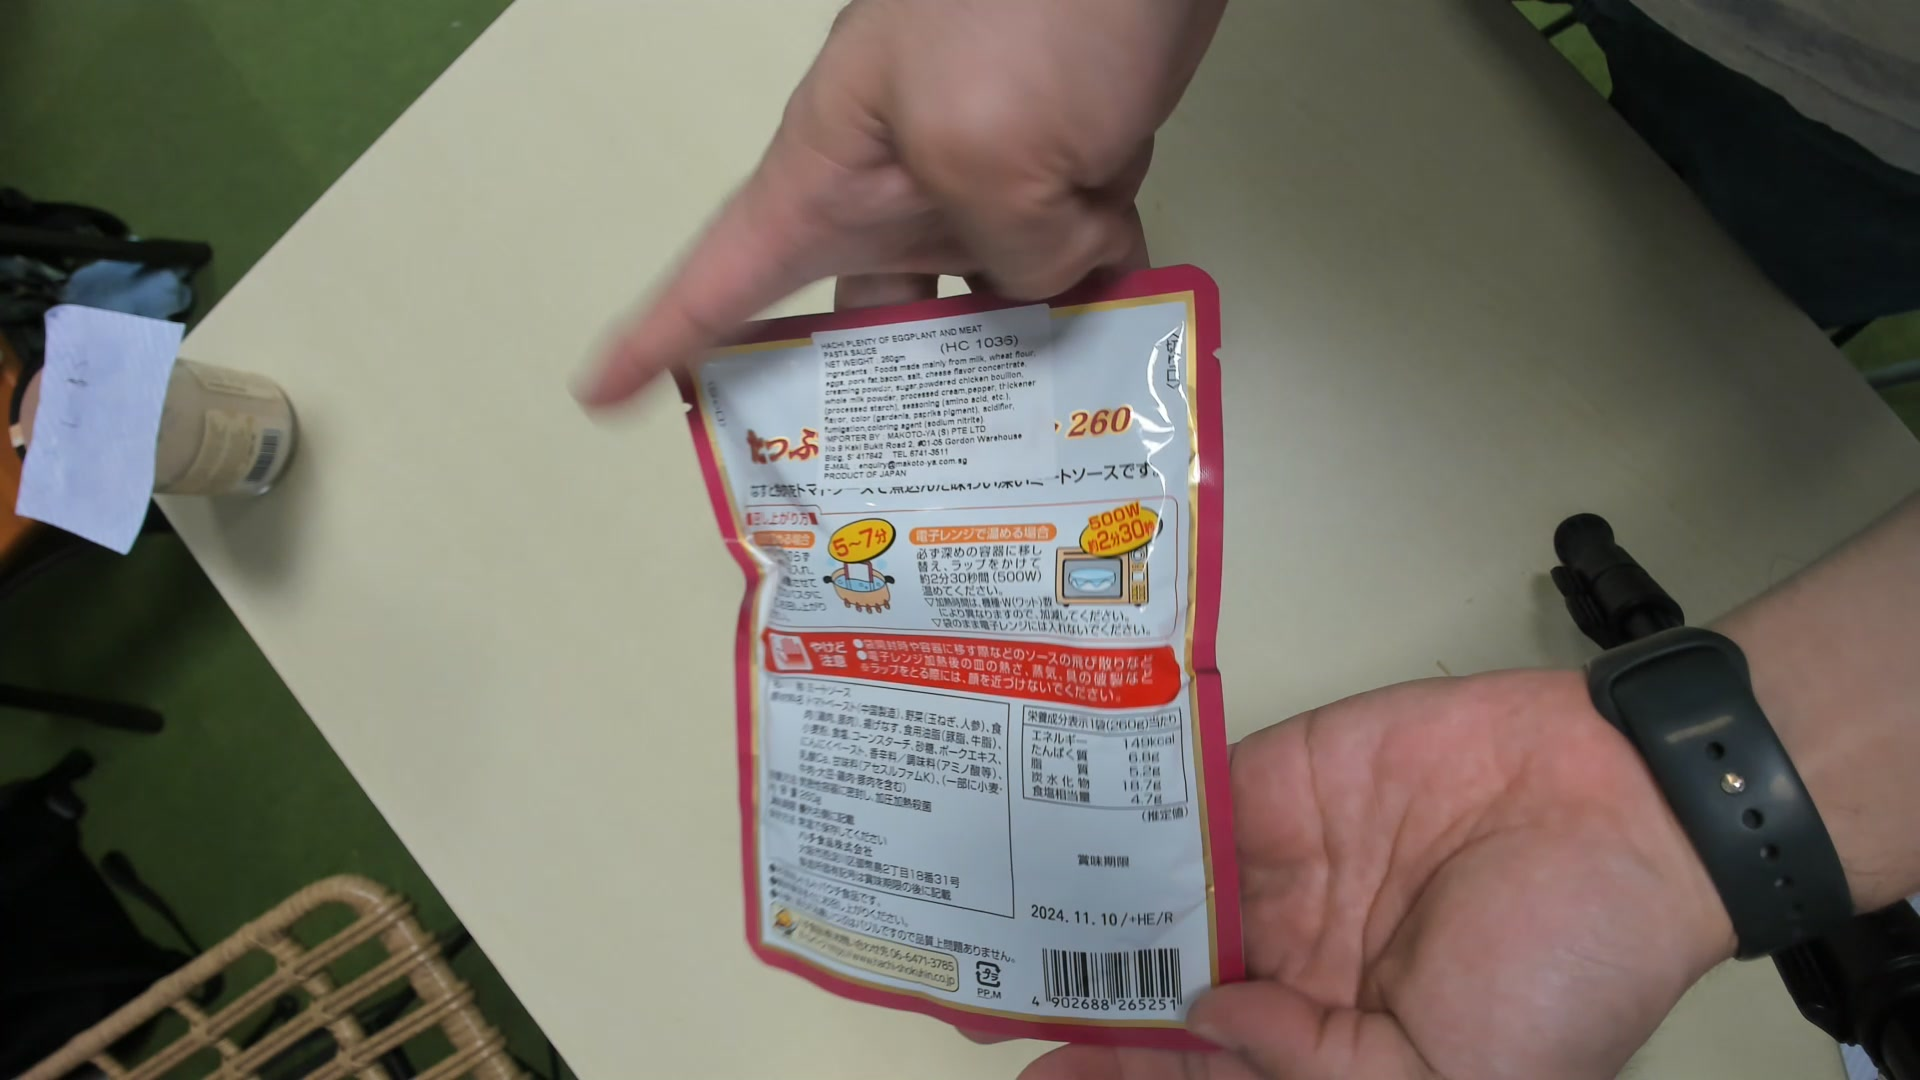PastaSauce_200-299g_NonHalal_NonHealthy: (694, 294, 1255, 1055)
